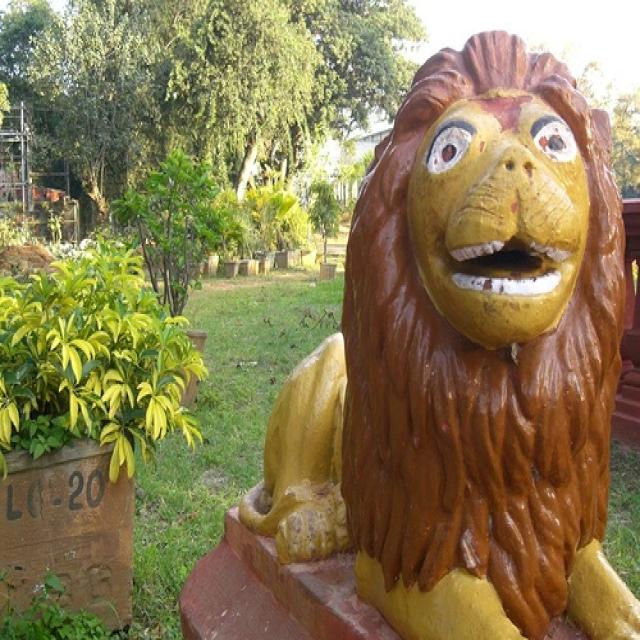pottedplant: (0, 240, 209, 632), (113, 152, 225, 411), (272, 181, 312, 270), (308, 176, 341, 282), (218, 191, 243, 277), (262, 188, 282, 275), (244, 198, 262, 276)
